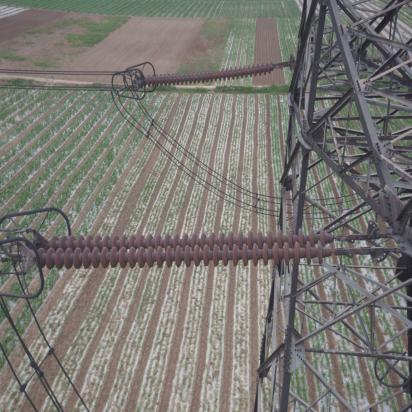insulator: (29, 224, 347, 271), (139, 60, 281, 88)
